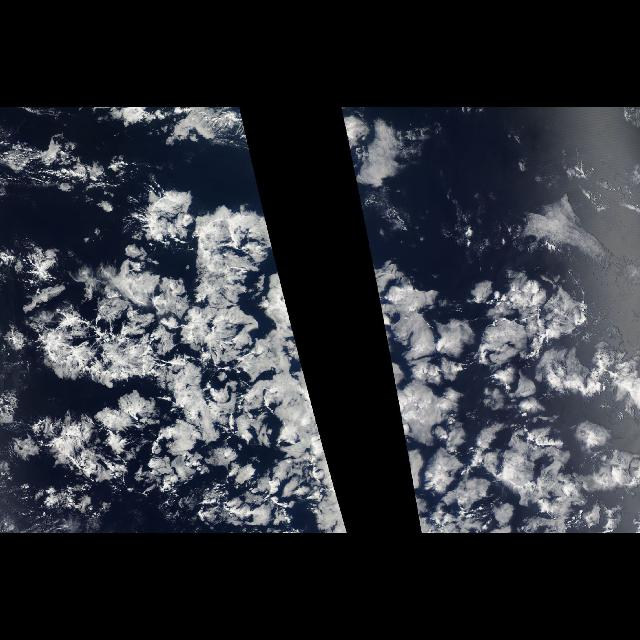Flower: (5, 111, 349, 534), (340, 111, 640, 534)
